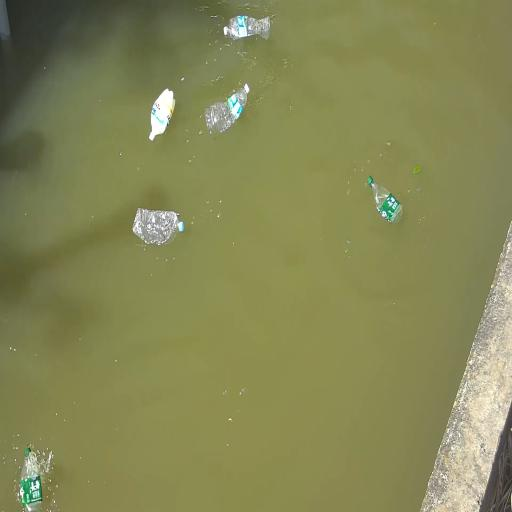plastic: (205, 84, 249, 134), (133, 208, 183, 246), (368, 177, 402, 223), (19, 448, 43, 511), (149, 89, 175, 141), (224, 16, 270, 39)
